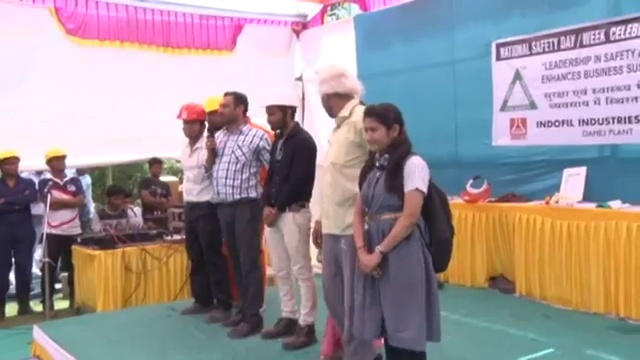helmet: (174, 101, 208, 124), (260, 91, 299, 111), (42, 148, 69, 165), (0, 147, 21, 163)
helmet_off: (353, 102, 410, 163), (312, 64, 352, 111), (216, 91, 247, 129), (99, 183, 127, 215), (148, 159, 164, 182)
helmet_on: (260, 90, 299, 133), (174, 101, 207, 144), (42, 147, 68, 175), (0, 147, 21, 180)
person: (347, 92, 453, 360), (300, 61, 366, 360), (206, 86, 271, 336), (256, 83, 317, 349), (171, 97, 233, 323), (33, 147, 87, 319), (0, 142, 35, 317), (86, 180, 142, 238), (136, 160, 172, 227)
